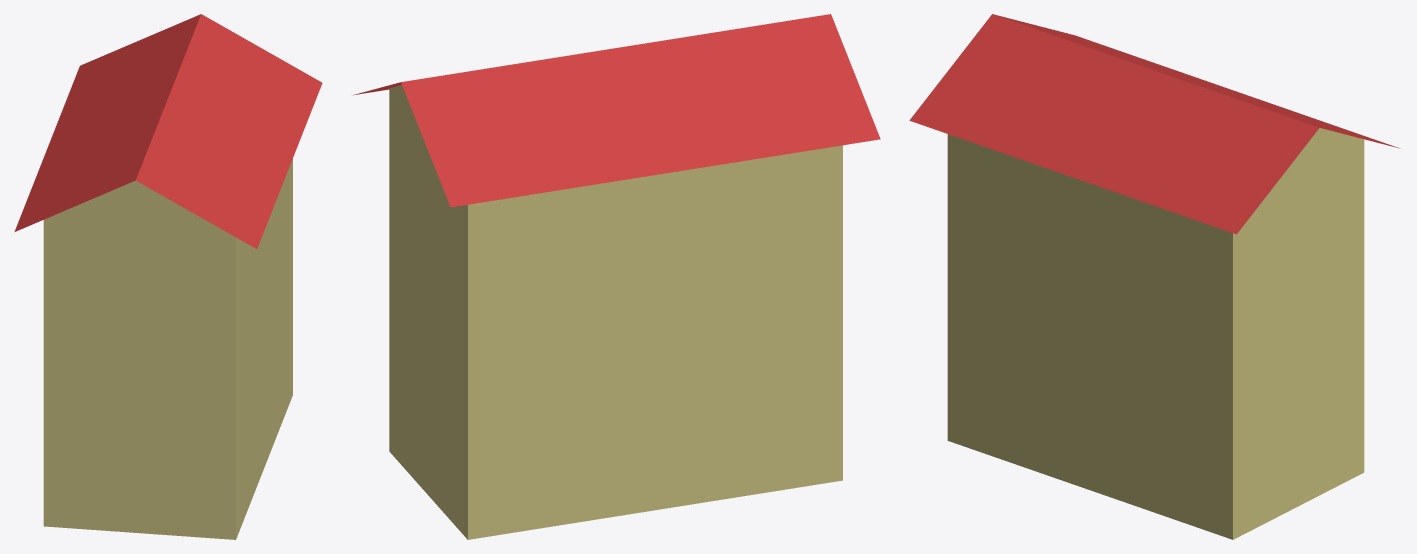
The picture shows the model from 3 angles, left to right: view 1: azimuth 30°, elevation 25°; view 2: azimuth 150°, elevation 25°; view 3: azimuth 270°, elevation 25°; orthographic projection. The views are drawn at different scales.
Visible parts, largest first — view 1: group_5, group_3, group_4; view 2: group_5, group_3, group_4; view 3: group_5, group_3, group_4.
Part boxes in pixels (<box>): group_5: <box>43,159,292,539</box>; group_3: <box>14,14,292,231</box>; group_4: <box>15,14,322,248</box>; group_5: <box>389,85,842,539</box>; group_3: <box>353,14,880,203</box>; group_4: <box>401,14,877,207</box>; group_5: <box>947,128,1364,539</box>; group_3: <box>947,14,1361,204</box>; group_4: <box>909,14,1399,234</box>.
Bounding box in the file's own units: 13 × 13.62 × 11.75.
